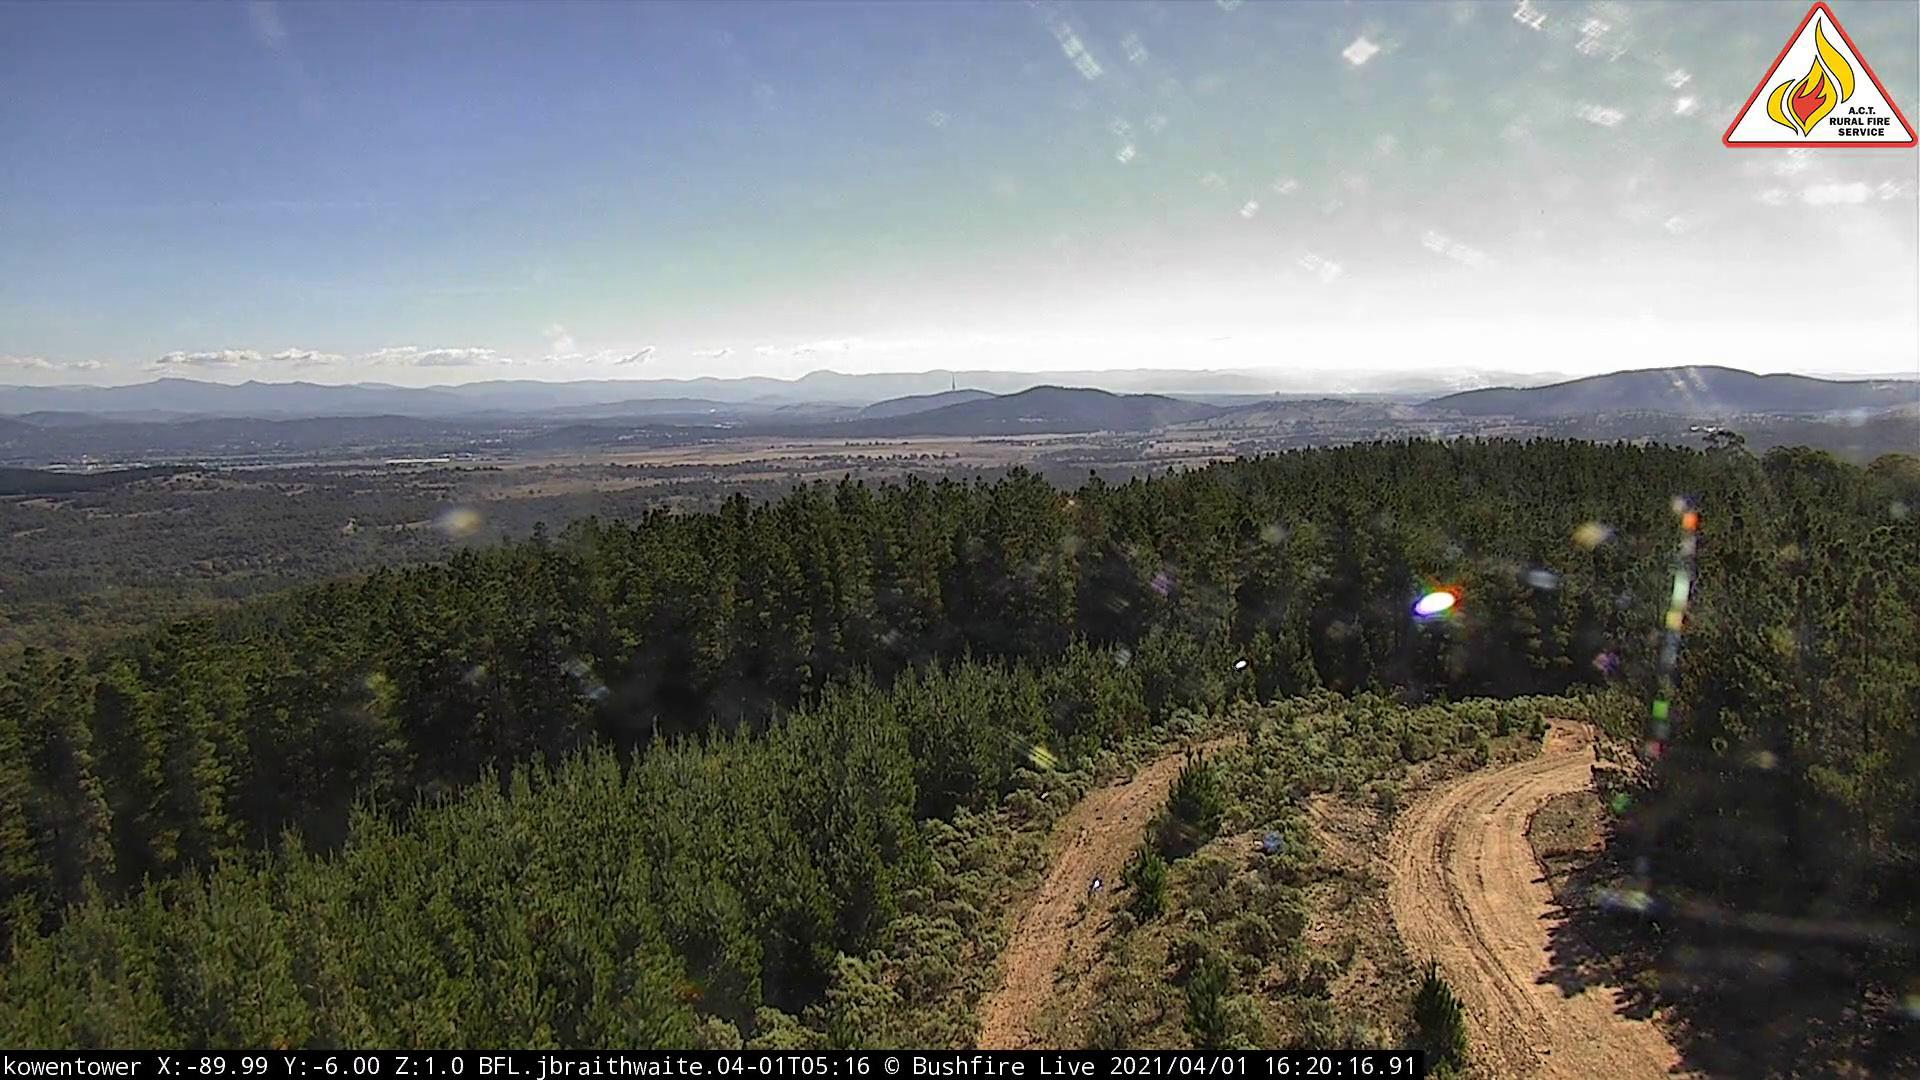Smoke: (1418, 357, 1509, 409)
